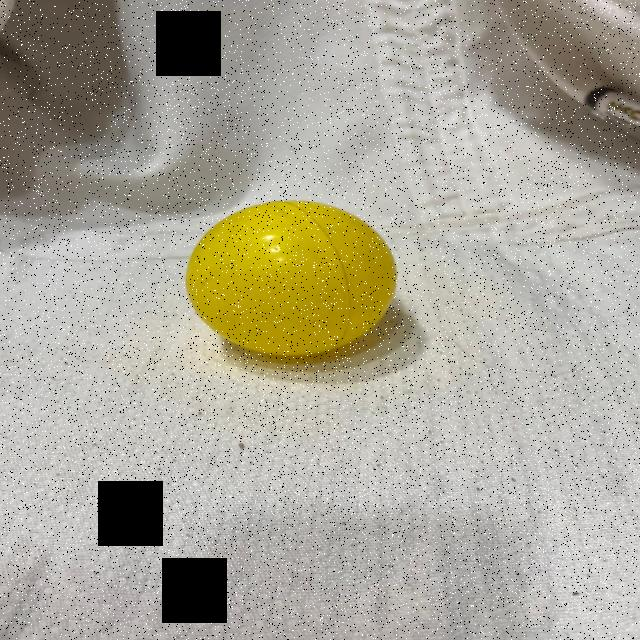ball: (183, 195, 400, 359)
